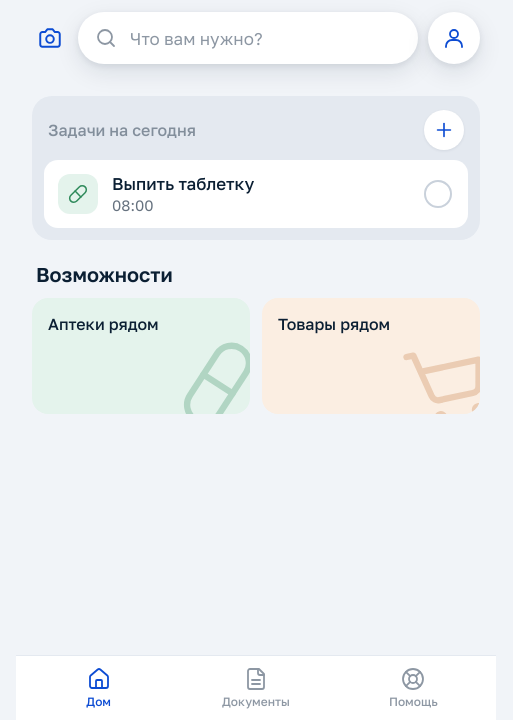
App › поиск открывает возможность, «Назад» возвращает на главную
Type "магазин" into the field labelled "Что вам нужно?" at (265, 38), box [128, 12, 402, 64]
Then press Enter
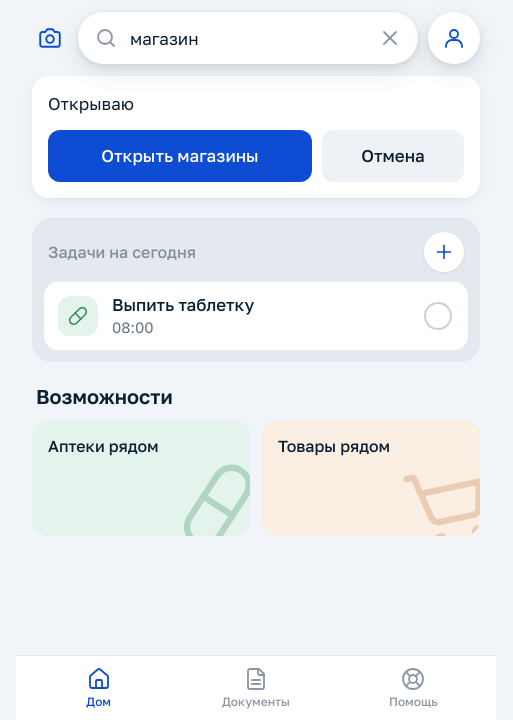
Click the button "Открыть магазины" at (180, 156), box [48, 130, 312, 182]
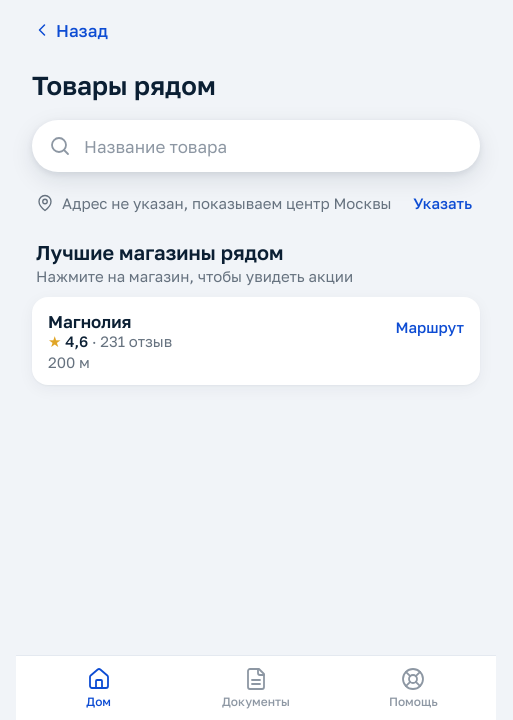
Check: the heading "Товары рядом" is shown, box [32, 70, 216, 101]
Click the button "Назад" at (70, 30), box [32, 8, 108, 52]
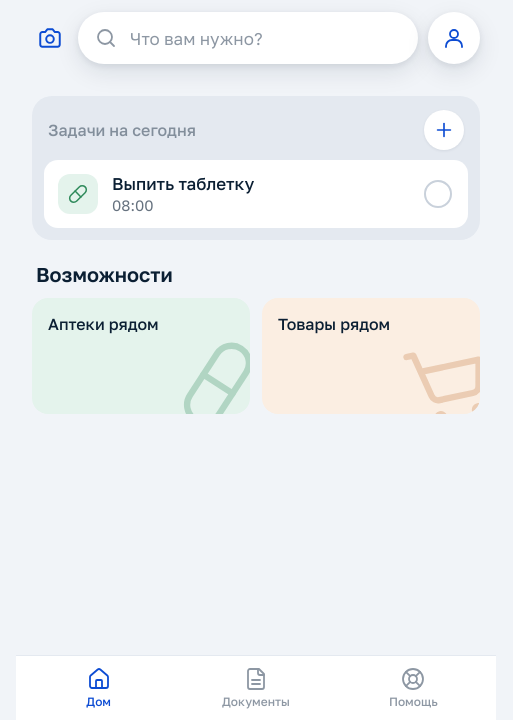
Check: the heading "Задачи на сегодня" is shown, box [48, 119, 196, 141]
